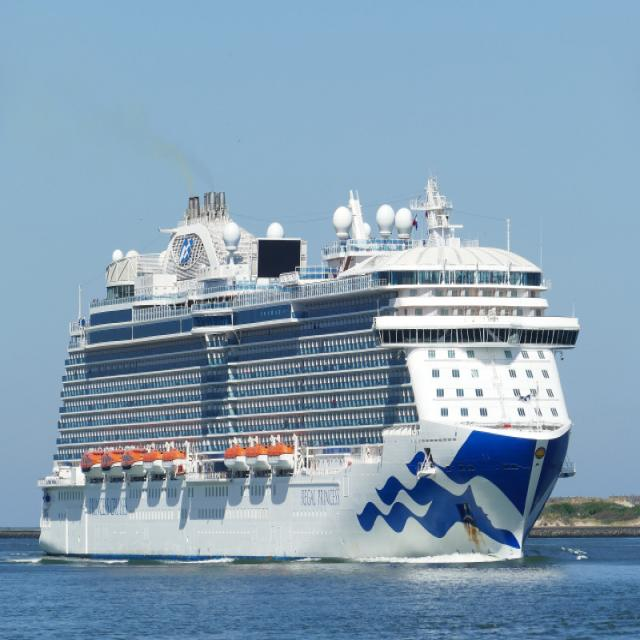cruises: (32, 177, 582, 580)
